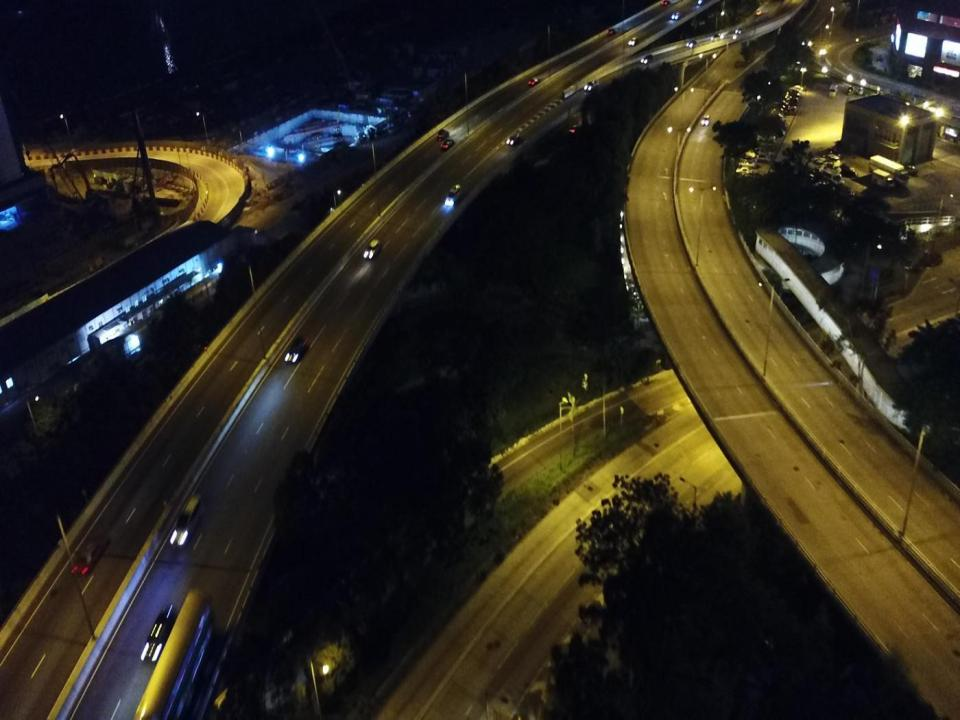bus: (130, 590, 218, 719), (828, 84, 837, 97)
car: (142, 606, 175, 660), (71, 535, 110, 574), (284, 332, 308, 362), (364, 238, 381, 258), (836, 164, 858, 176), (736, 166, 760, 176), (438, 128, 449, 142), (903, 166, 918, 176), (754, 147, 772, 155), (743, 149, 759, 158), (441, 140, 455, 150), (756, 152, 770, 162), (569, 126, 584, 135), (739, 161, 758, 168), (508, 134, 521, 144), (710, 33, 723, 41), (528, 78, 540, 86), (629, 36, 638, 46), (608, 28, 618, 36), (736, 26, 745, 34), (686, 41, 697, 47), (856, 88, 864, 96), (847, 86, 854, 95), (672, 12, 680, 19), (661, 0, 670, 5)
truck: (870, 156, 908, 187), (873, 170, 895, 190)
van: (171, 497, 201, 544), (821, 168, 845, 188), (444, 184, 462, 206), (757, 131, 777, 144), (807, 159, 824, 172), (815, 155, 832, 168), (824, 154, 841, 166), (584, 79, 599, 92), (640, 55, 654, 64), (700, 114, 710, 125), (788, 87, 800, 95)
